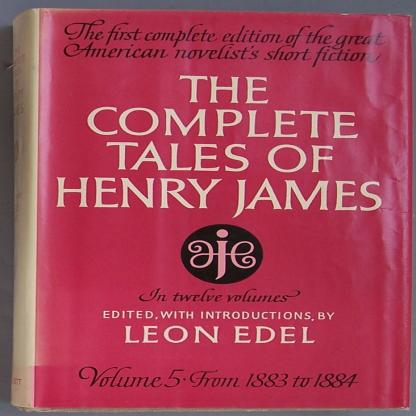book: (21, 17, 416, 416)
